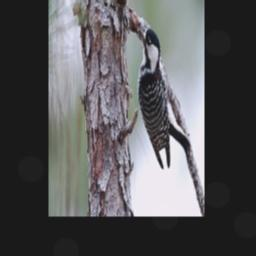Woodpecker: (134, 22, 190, 169)
